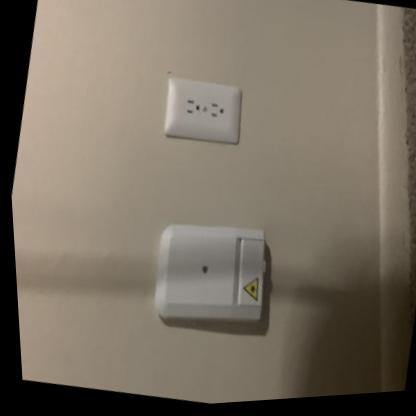OUTLET: (156, 70, 248, 149)
